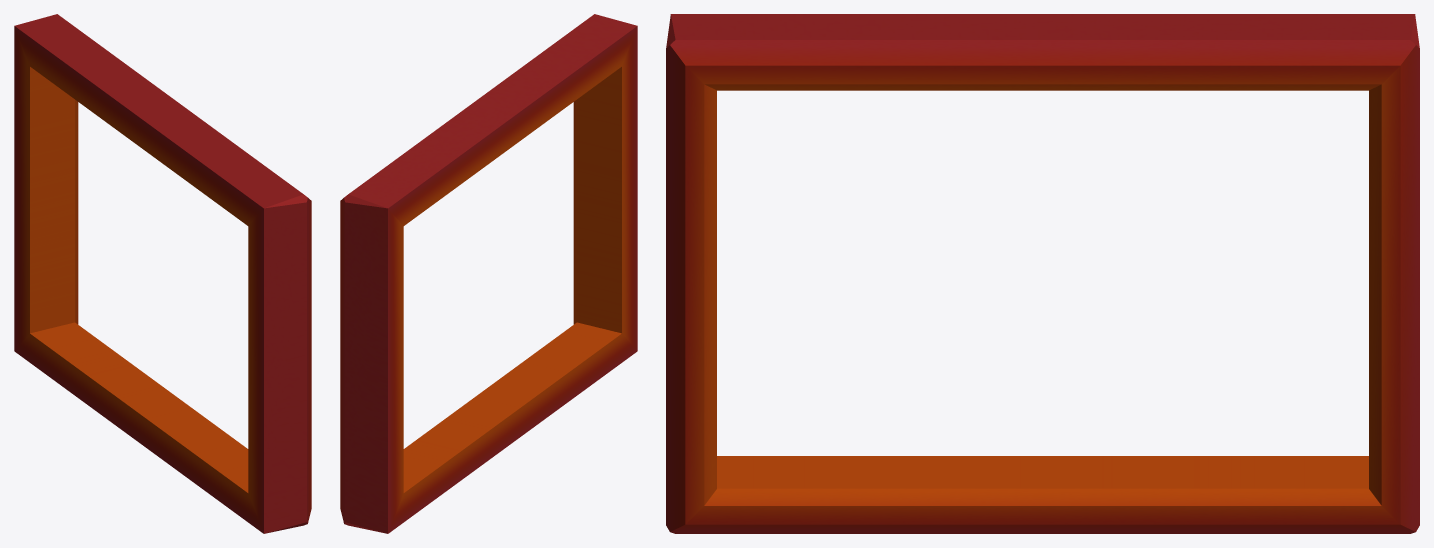
File: frame2.fbx
3 views of the same model, side by side, from view 1: azimuth 30°, elevation 25°; view 2: azimuth 150°, elevation 25°; view 3: azimuth 270°, elevation 25° (orthographic). The views are drawn at different scales.
Visible parts, largest first — view 1: frame2; view 2: frame2; view 3: frame2.
Part boxes in pixels (x1=…): frame2: x1=14, y1=14, x2=311, y2=533; frame2: x1=340, y1=14, x2=637, y2=533; frame2: x1=666, y1=14, x2=1419, y2=533.
Size of the model in its own units: 1.78 by 10.72 by 14.82.
